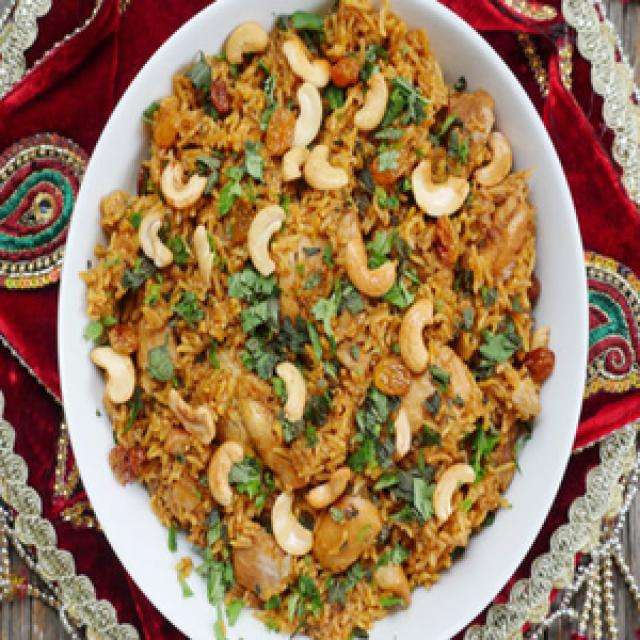chicken biriyani: (60, 0, 562, 640)
